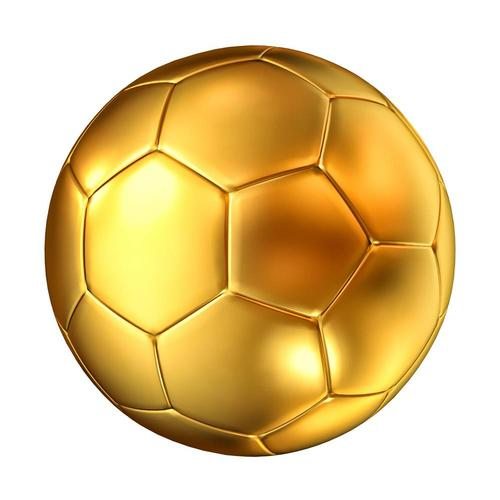football: (49, 38, 447, 464)
